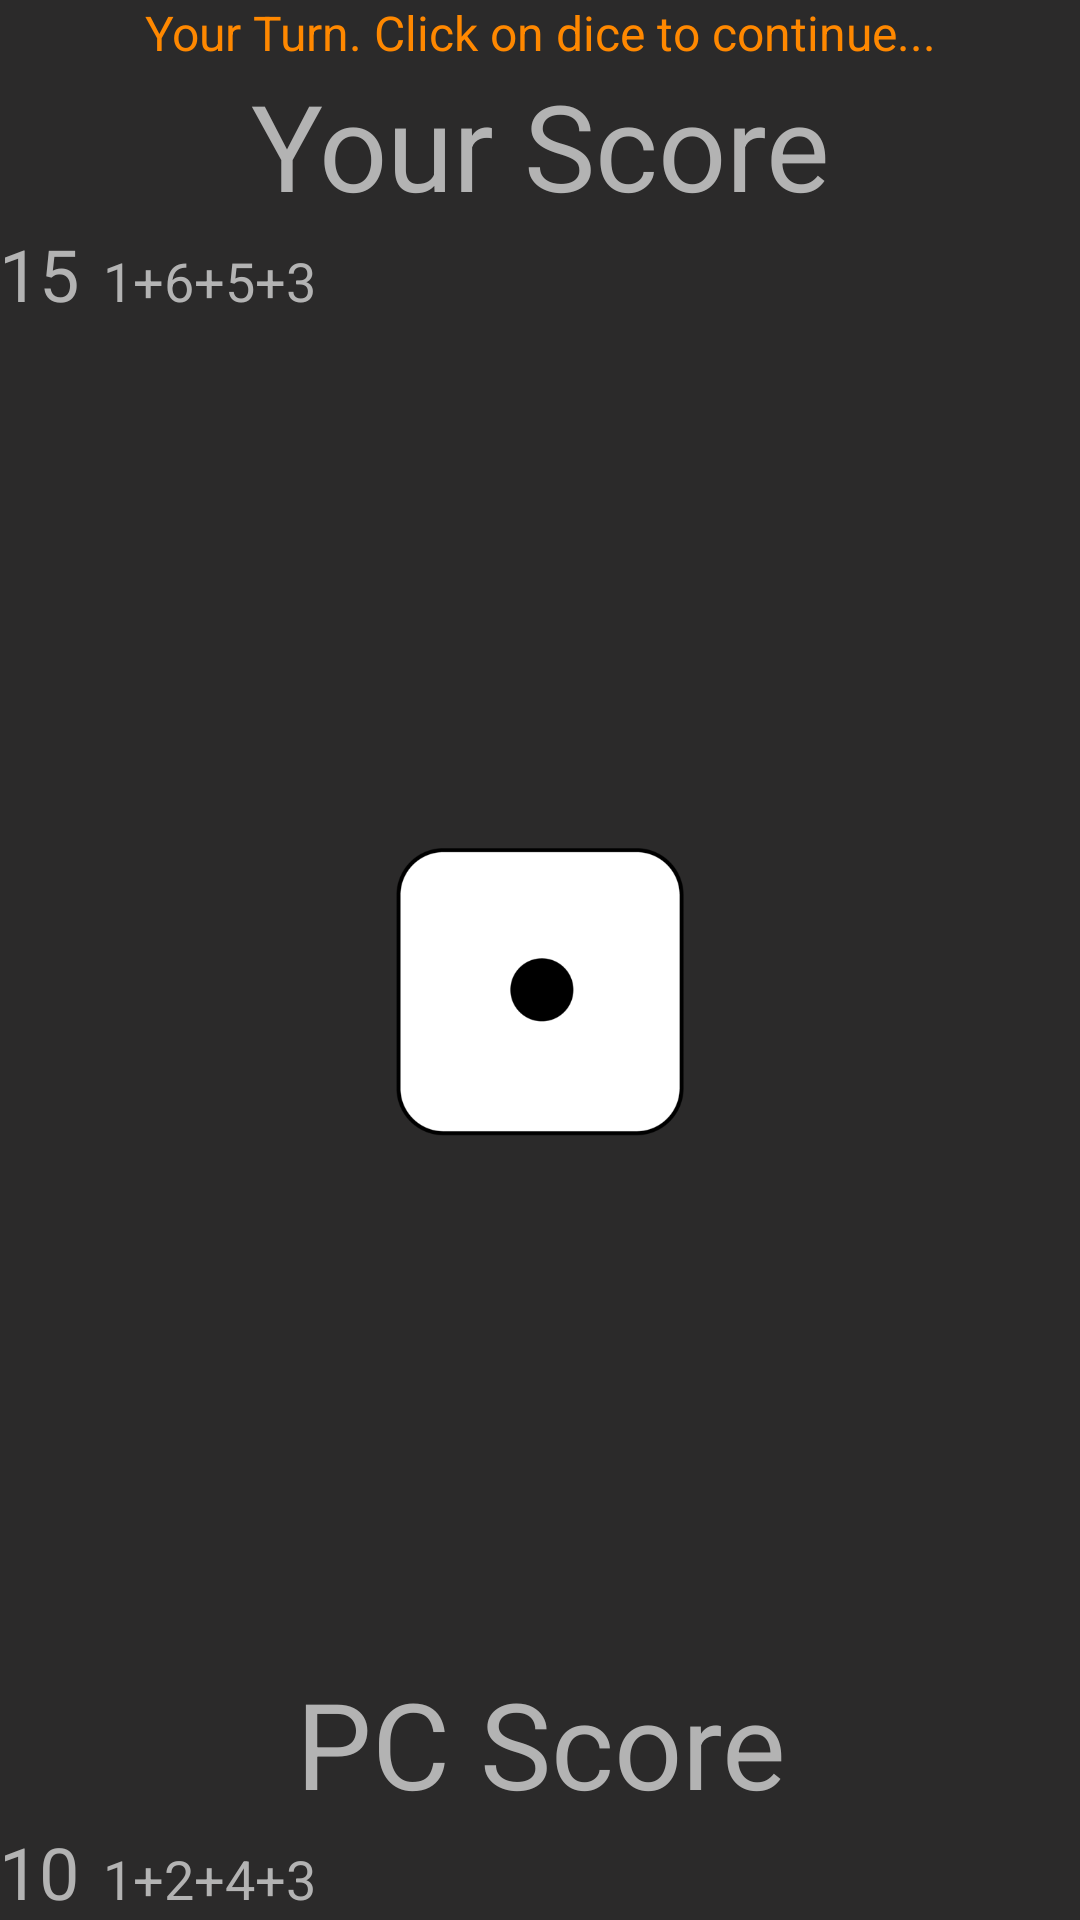

Icons on this 1080x1920 Android screen, each with its box as rect(x1, y1, x2, y2):
dice: rect(397, 848, 683, 1135)
